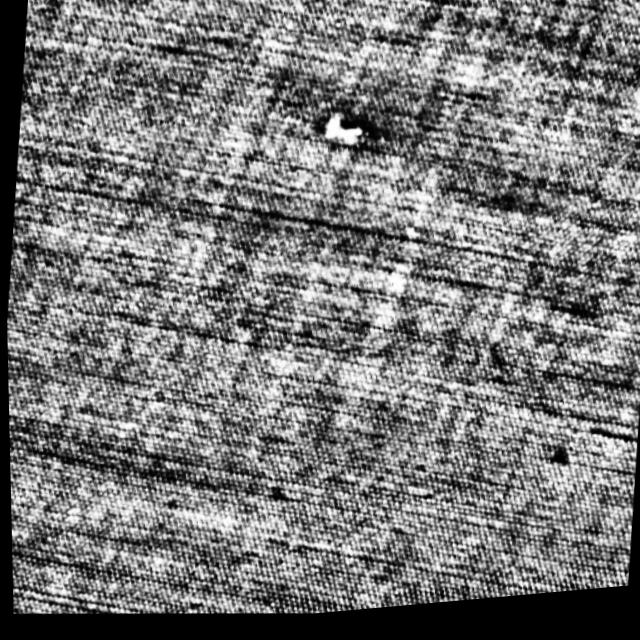Hole: (314, 115, 370, 152)
